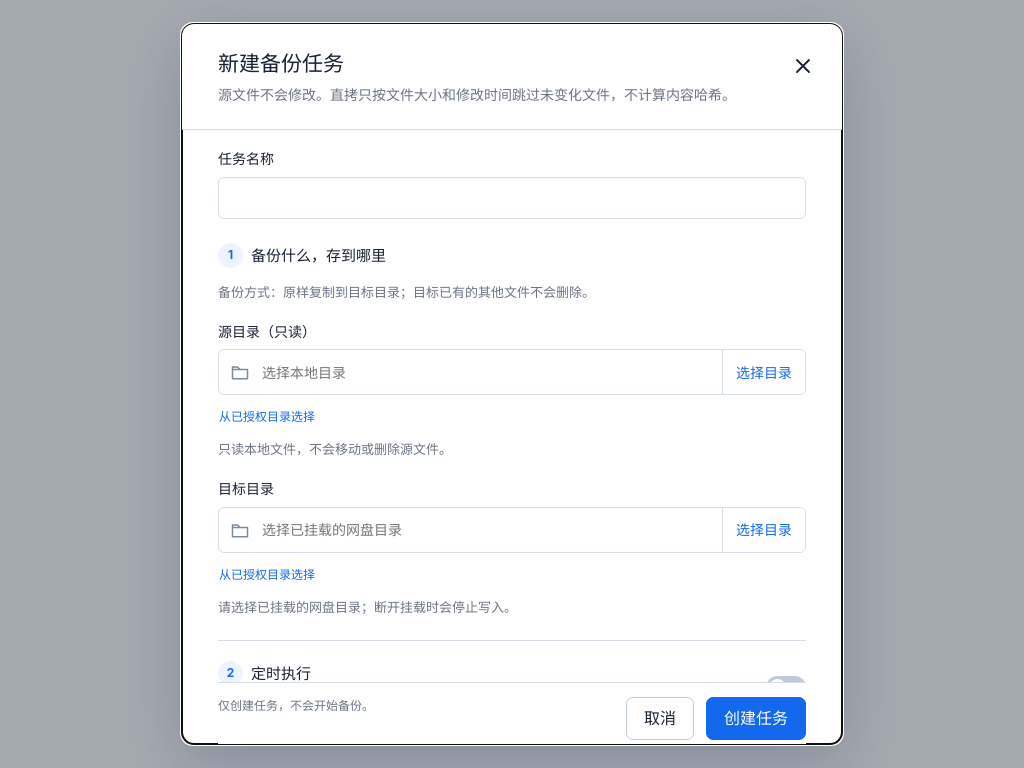
Scenario: directory picker in a toolbox iframe › shows pending feedback, can cancel, and ignores a late native selection
The width and height of the screenshot is (1024, 768).
Click the 1st button "选择目录" at (764, 372), box left=722, top=350, right=805, bottom=394
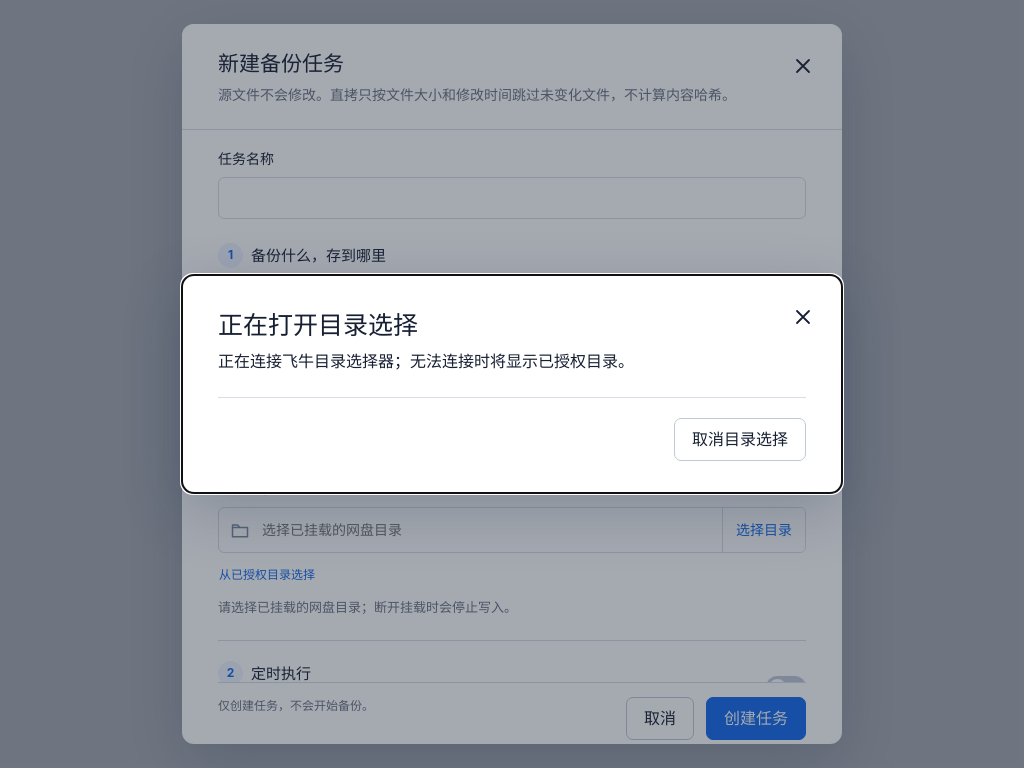
Expected: the dialog "正在打开目录选择" is shown, left=182, top=276, right=842, bottom=493
Click the button "取消目录选择" at (740, 439), box left=674, top=418, right=806, bottom=461
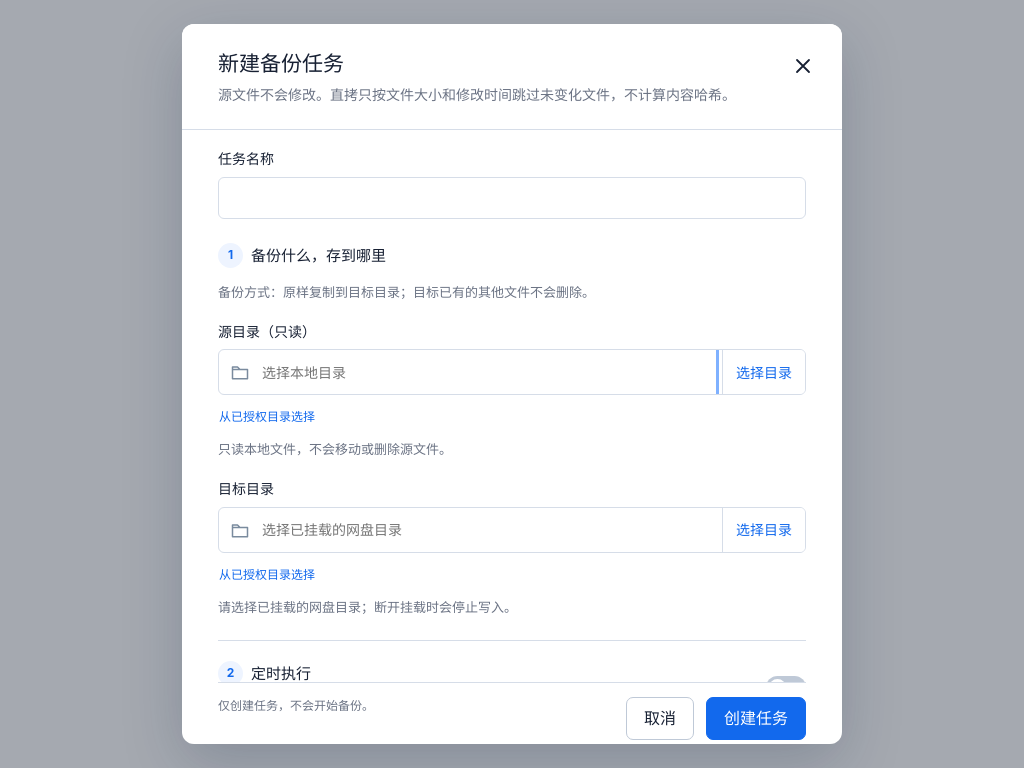
Expected: the field labelled "源目录（只读）" is empty, left=250, top=351, right=722, bottom=393
Expected: the heading "正在打开目录选择" is gone
